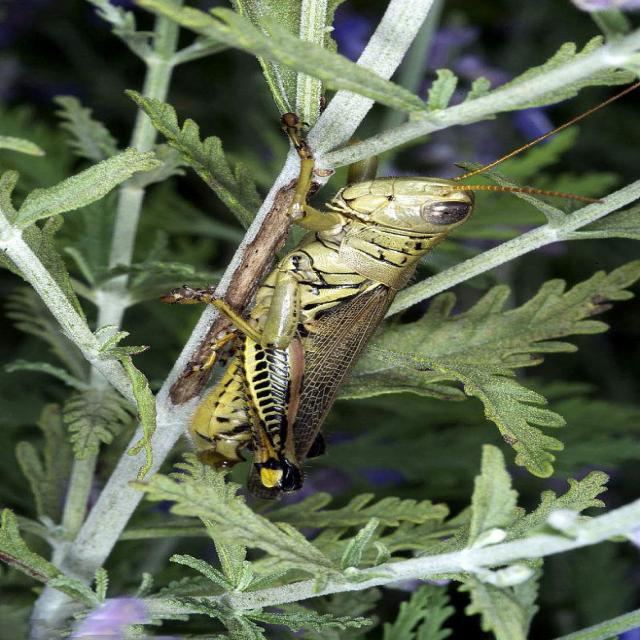ZhaMeng: (177, 87, 505, 501)
